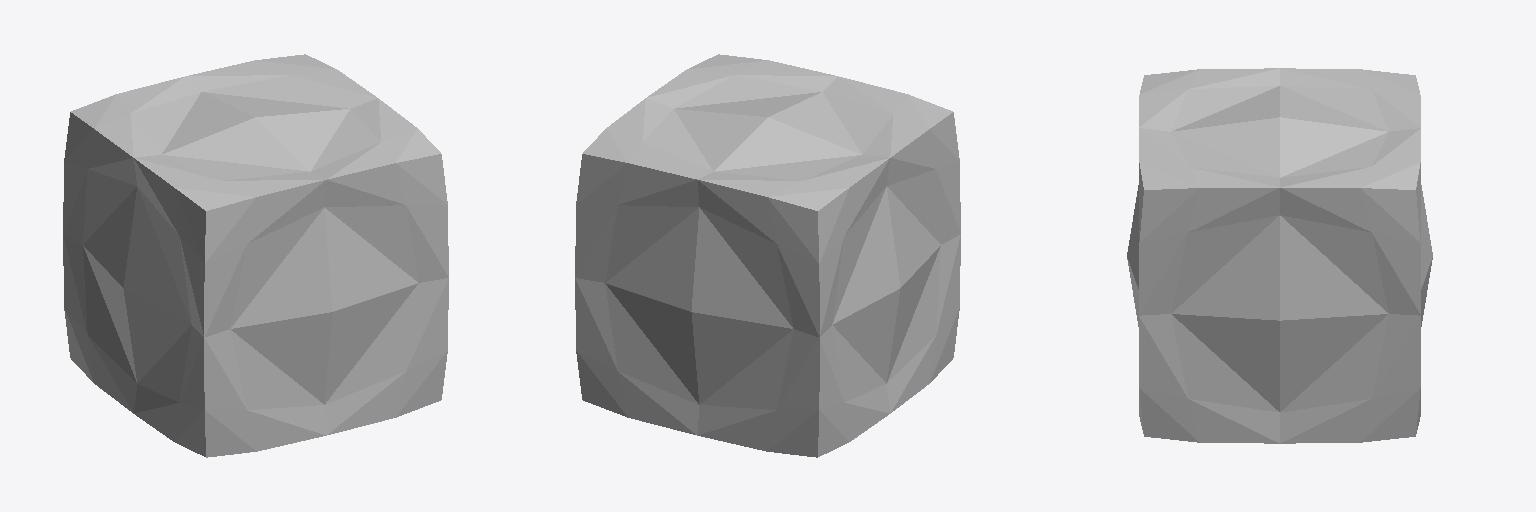
File: cool.obj
The picture shows the model from 3 angles: view 1: azimuth 30°, elevation 25°; view 2: azimuth 150°, elevation 25°; view 3: azimuth 270°, elevation 25°; orthographic projection.
Visible parts, largest first — view 1: Cube; view 2: Cube; view 3: Cube.
Boxes of the visible parts, x1,y1,x2,y2 form: Cube: [63, 54, 448, 457]; Cube: [575, 54, 960, 457]; Cube: [1127, 68, 1432, 443].
Size of the model in its own units: 0.8078 by 0.8078 by 0.8078.